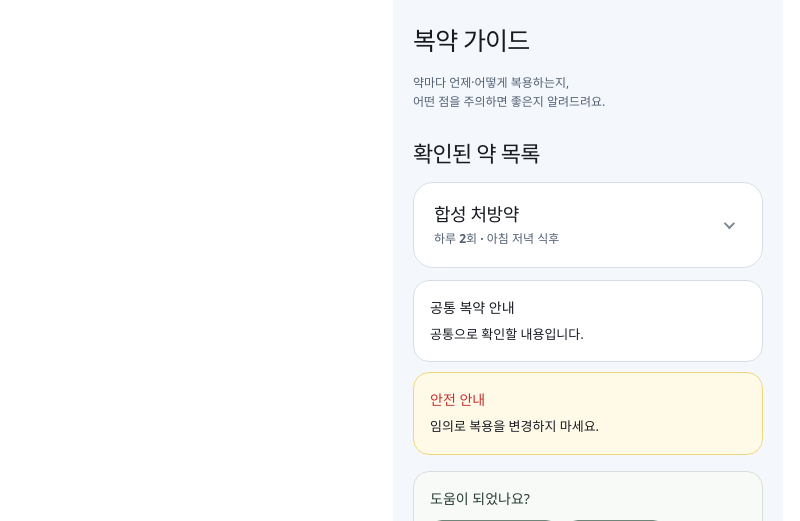
Scenario: GuidePage › 향후 명시 라벨은 해당 섹션에만 매핑하고 누락 섹션은 추측하지 않는다
Click the button "합성 처방약 하루 2회 · 아침 저녁 식후" at (476, 214), box [414, 183, 762, 267]
(page scrolled)
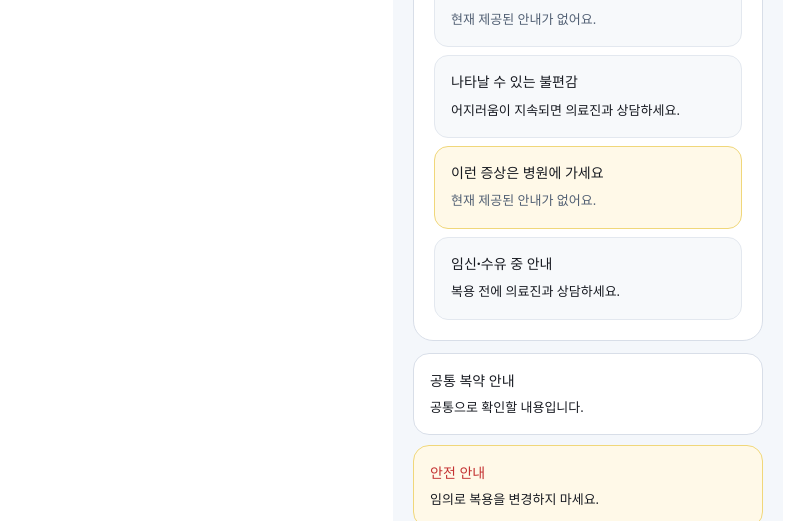
Now the text "어지러움이 지속되면 의료진과 상담하세요." is shown, box [451, 101, 680, 119]
Now the text "복용 전에 의료진과 상담하세요." is shown, box [451, 282, 620, 300]
Now the text "현재 제공된 안내가 없어요." is shown 3 times
